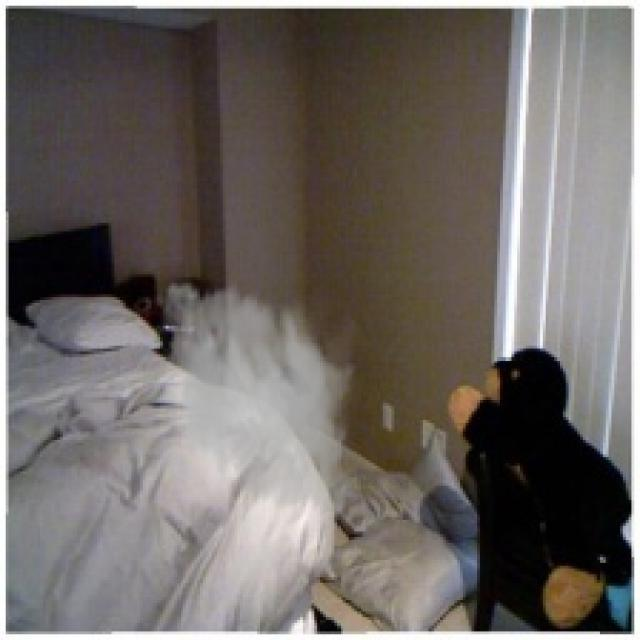Smoke: (146, 271, 372, 526)
